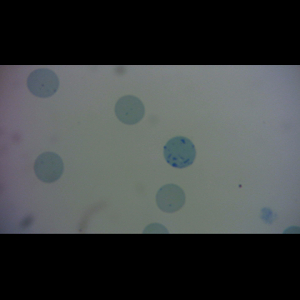aggregate reticulocyte: (162, 135, 198, 170)
punctate reticulocyte: (26, 67, 60, 99), (113, 94, 145, 126), (33, 151, 65, 183), (155, 183, 186, 214)
